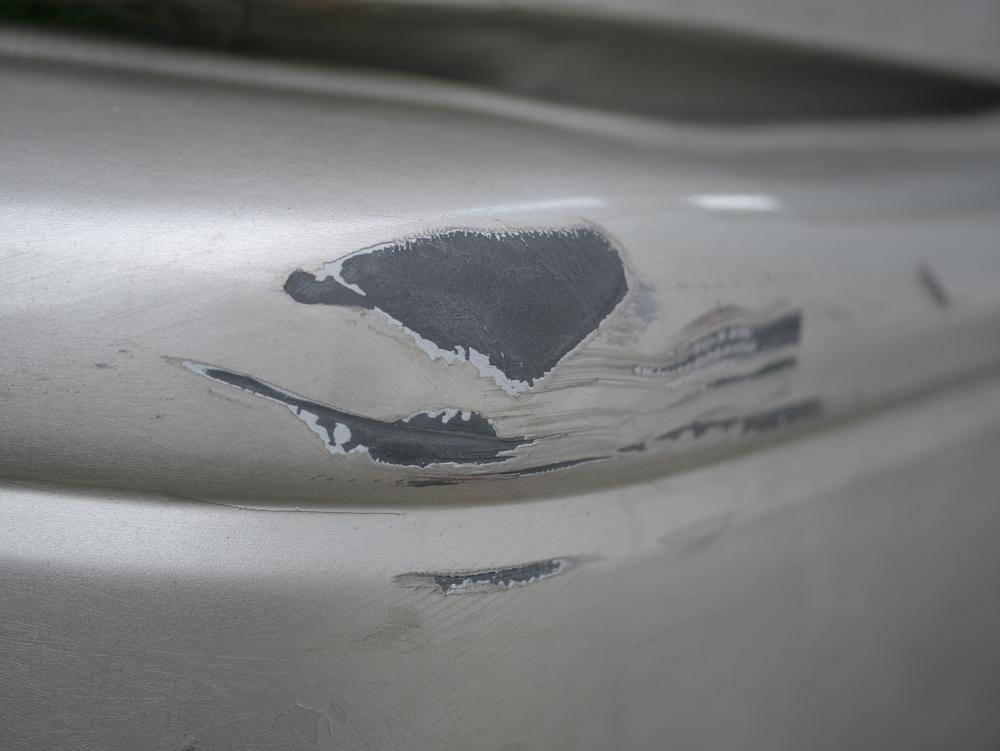scratch: (155, 214, 836, 611)
